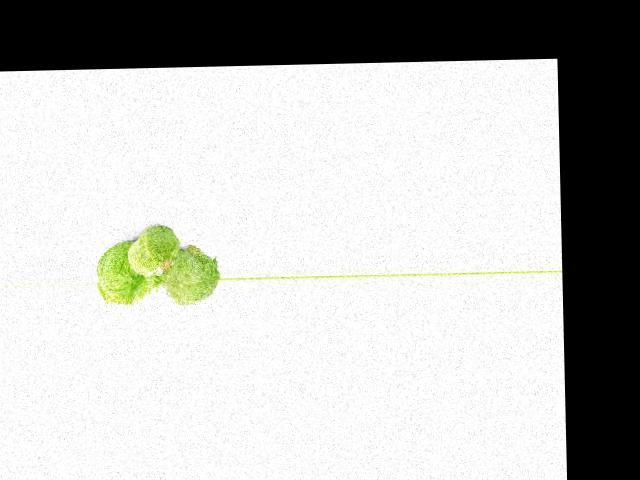lettuce: (99, 244, 152, 302)
